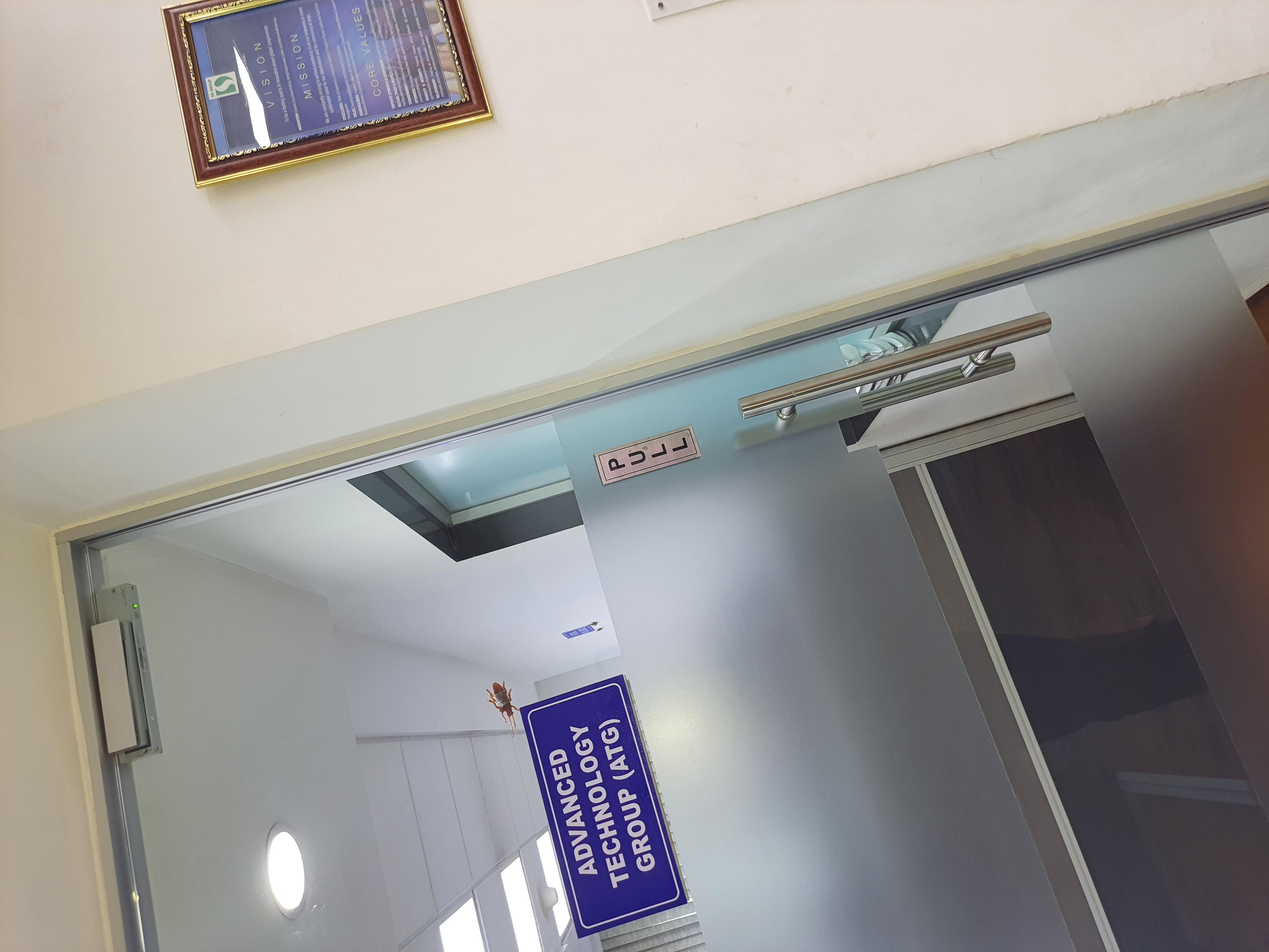cockroach: (308, 359, 396, 394)
